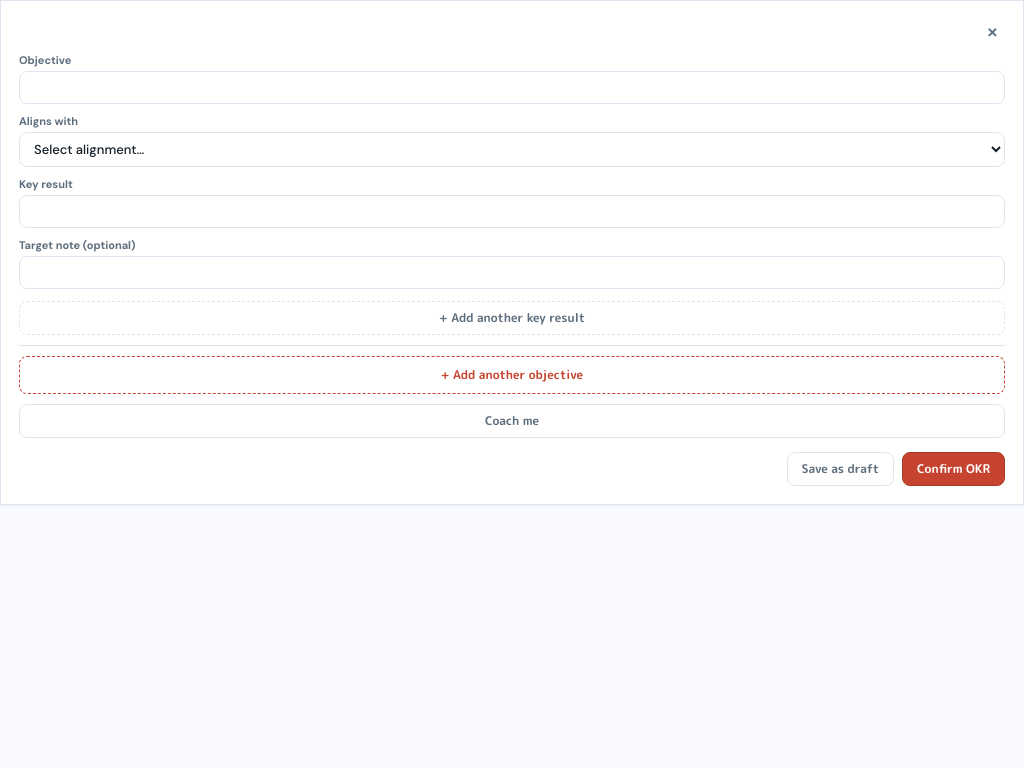
Test: OkrDialog › blocks add save when no company objective link is selected
Type "Grow revenue" into the field labelled "Objective".
click(512, 88); type("Grow revenue")  # box x1=19 y1=71 x2=1005 y2=104
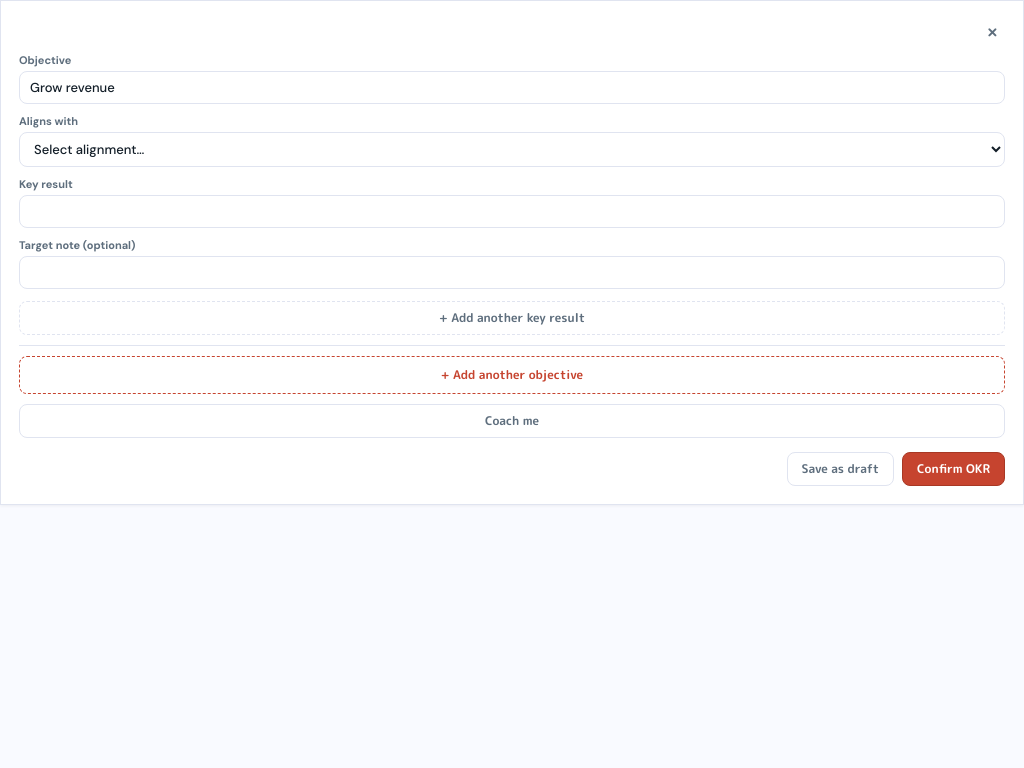
Click the button "Save as draft".
click(840, 469)  # box x1=786 y1=452 x2=894 y2=486
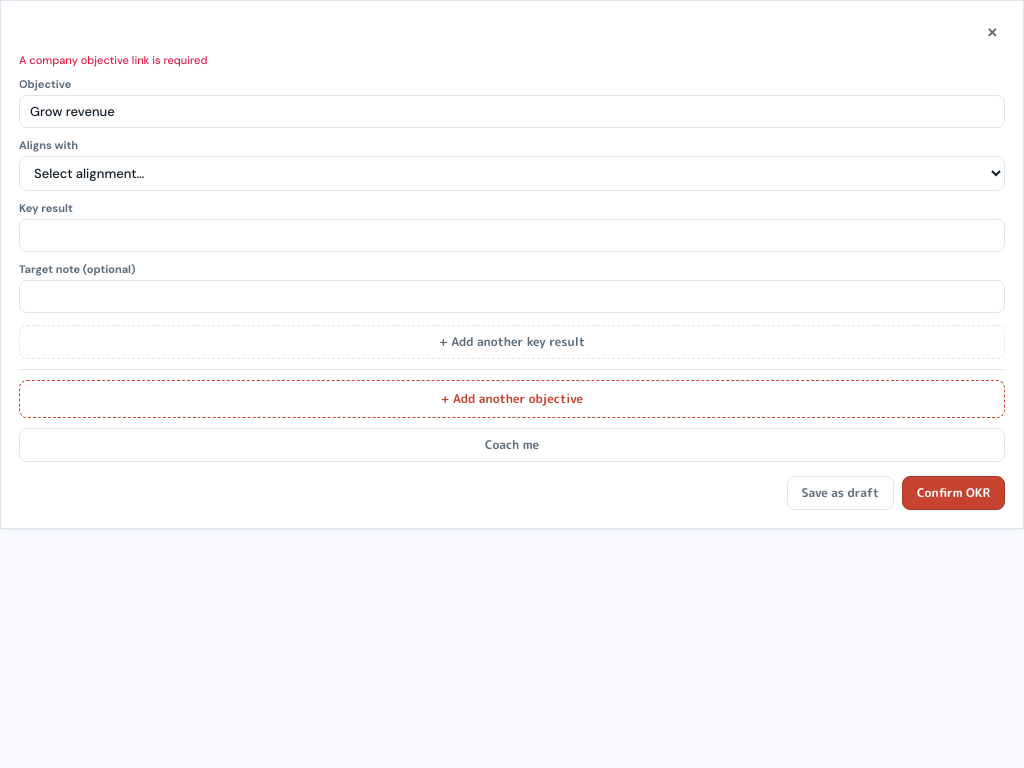
Result: the message shows "company objective link is required" at x1=19 y1=53 x2=207 y2=67
